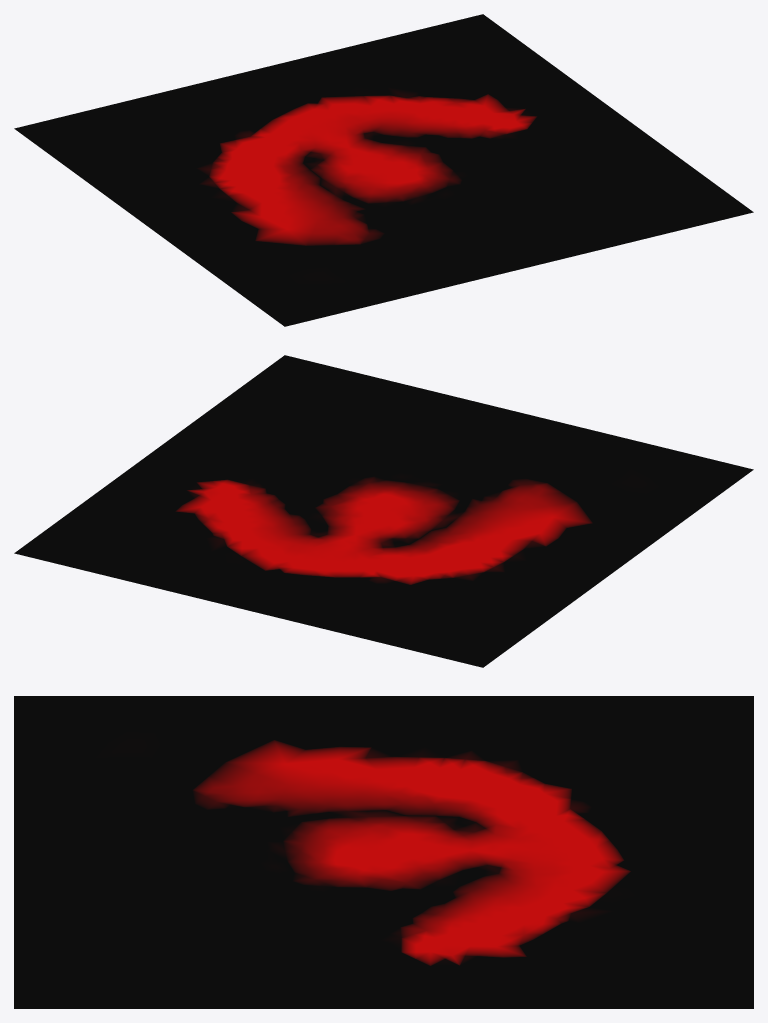
Rendered from WM_Ground_01.fbx.
3 views of the same model, one above another, from view 1: azimuth 30°, elevation 25°; view 2: azimuth 150°, elevation 25°; view 3: azimuth 270°, elevation 25° (orthographic). The views are drawn at different scales.
Visible parts, largest first — view 1: WM_Ground_01; view 2: WM_Ground_01; view 3: WM_Ground_01.
Boxes of the visible parts, x1=… form: WM_Ground_01: x1=14, y1=14, x2=753, y2=326; WM_Ground_01: x1=14, y1=355, x2=753, y2=667; WM_Ground_01: x1=14, y1=696, x2=753, y2=1008.
Bounding box in the file's own units: 293 × 0 × 293.
